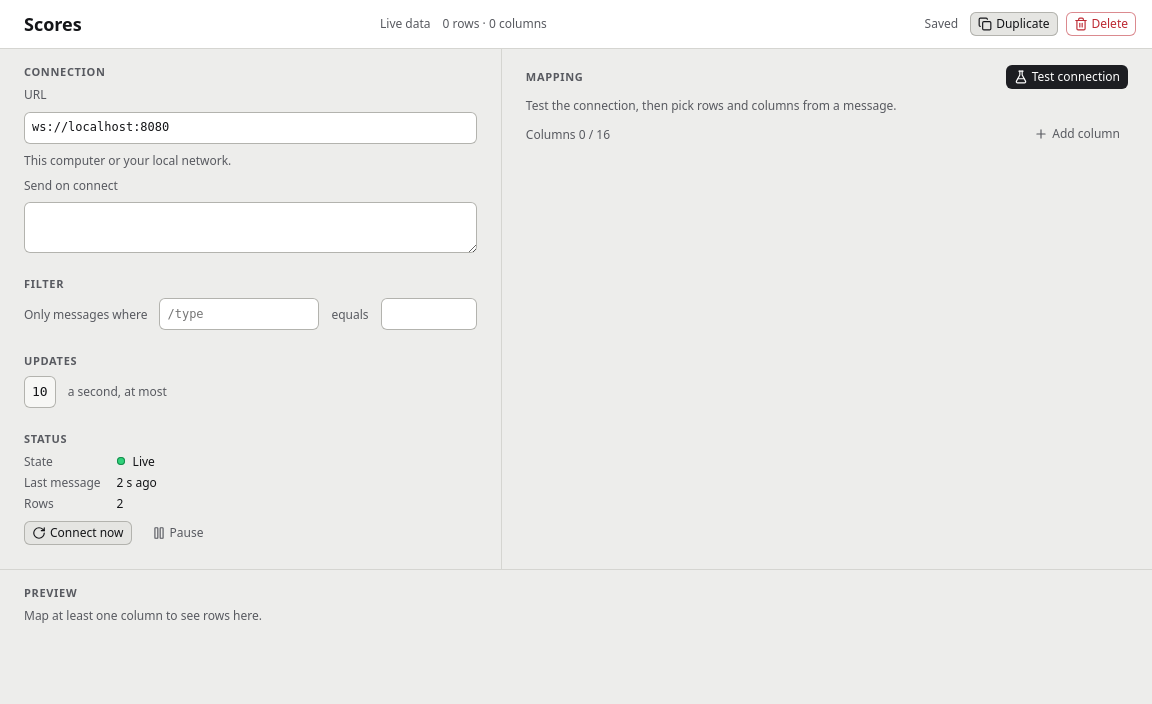
live data editor › test connection → the message tree; pick rows and columns; the preview shows them
The width and height of the screenshot is (1152, 704).
Check: the field named "Source name" is shown, box [16,8,368,40]
Click the button "Test connection". click: (1067, 77)
box: [1006,65,1128,89]
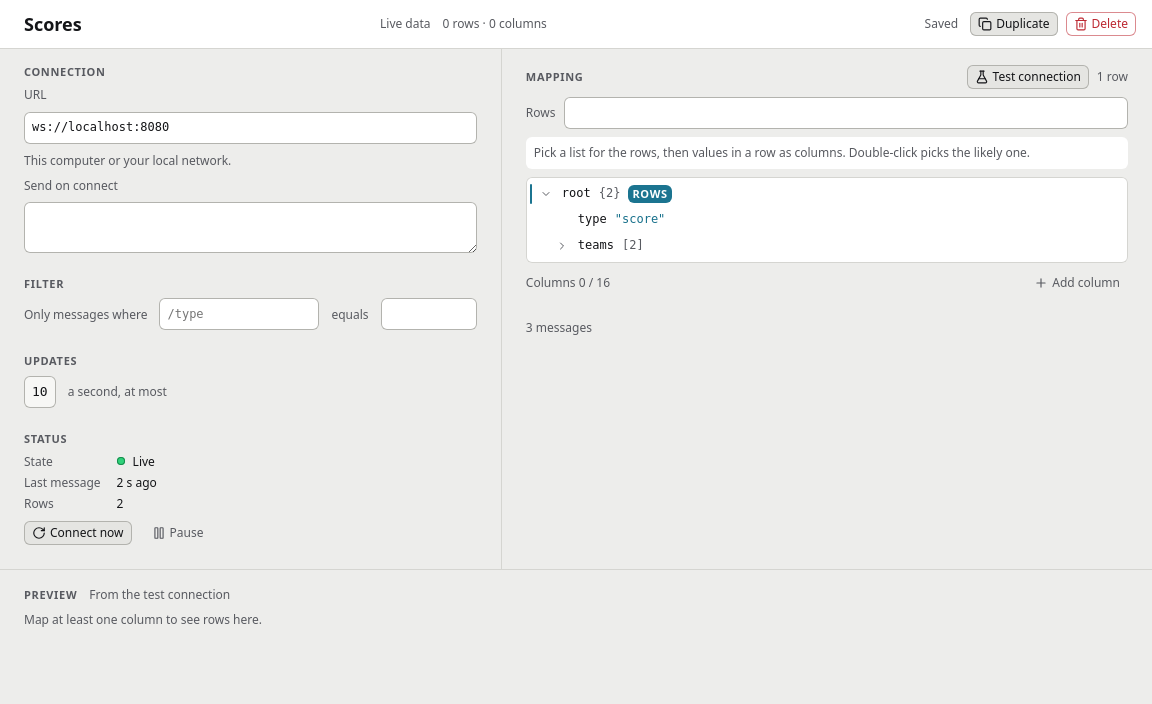
Check: the text "3 messages" is shown, box [526,319,592,336]
Click the list item "teams [2]". click: (600, 245)
box: [556,238,644,252]
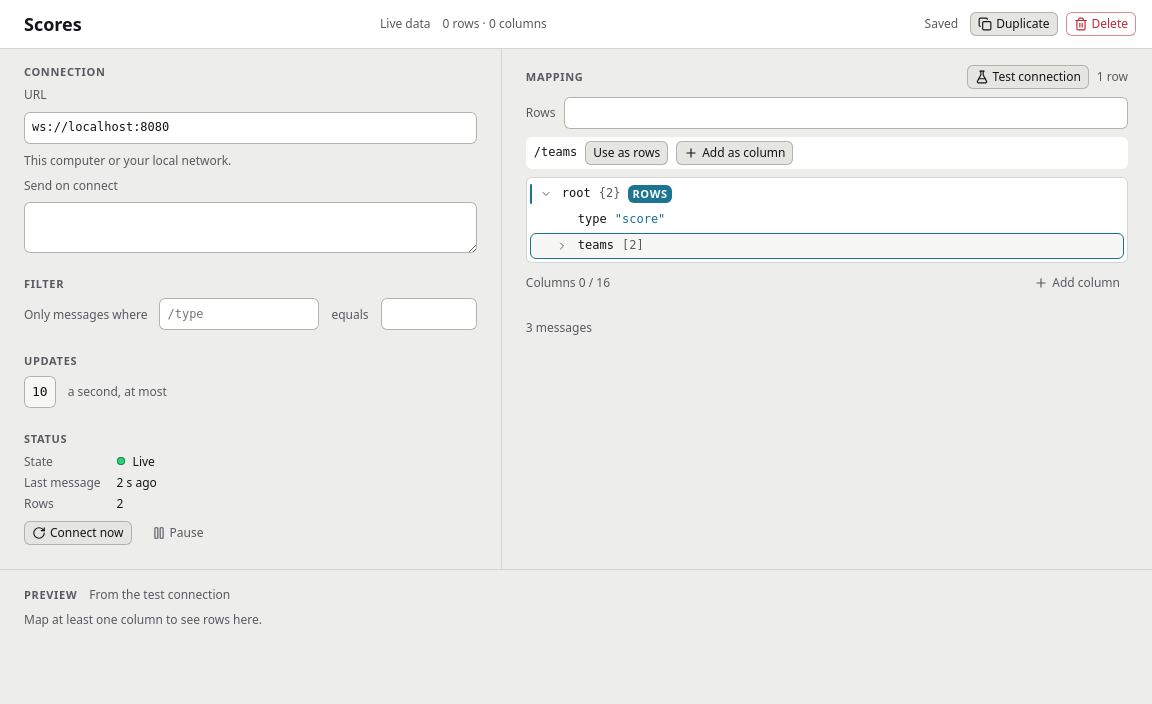
Click the button "Use as rows". click: (627, 153)
box: [585,141,668,165]
Wait 600 ms
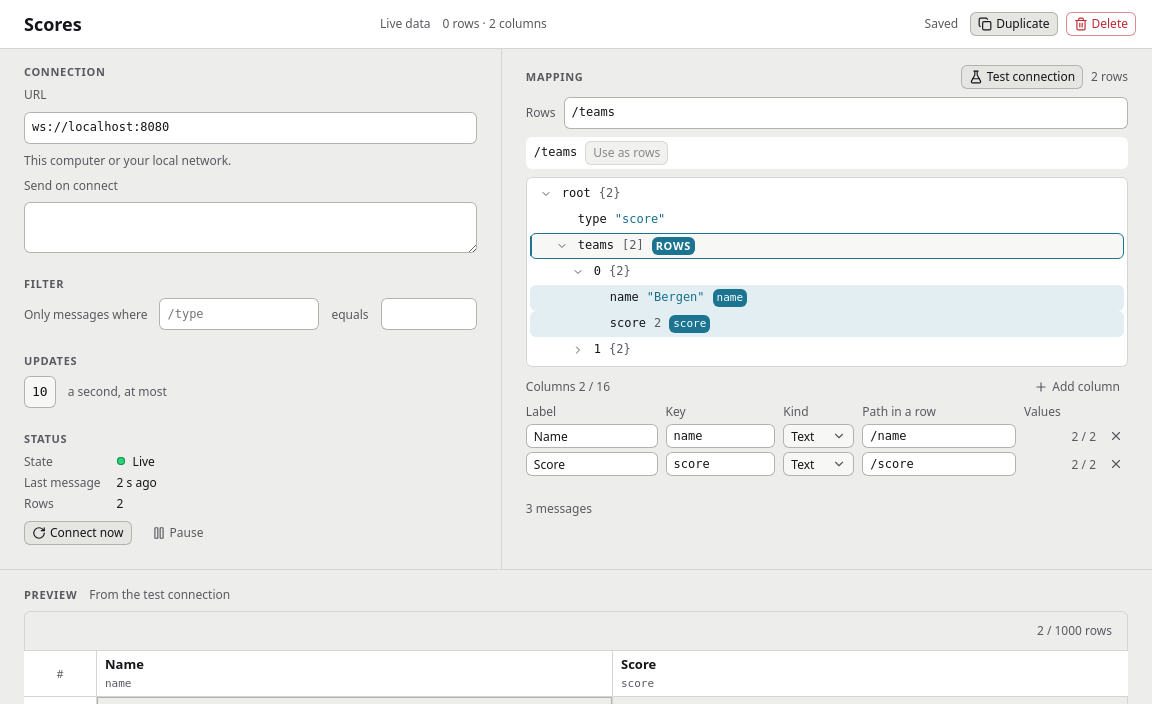
Check: the text "From the test connection" is shown, box [89,586,230,603]
Check: the field labelled "Rows" holds "/teams", box [564,97,1128,129]
Check: the field named "Column 1 path" holds "/name", box [862,424,1016,448]
